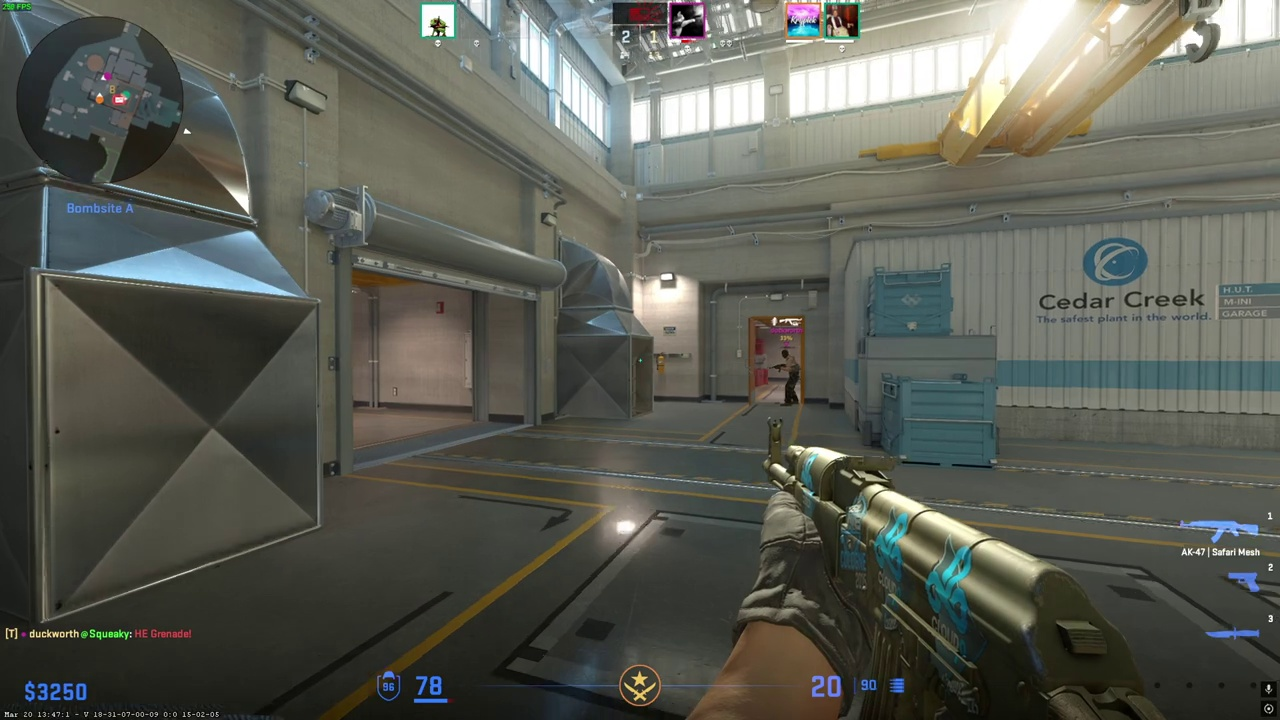Terrorist: (779, 348, 801, 406)
